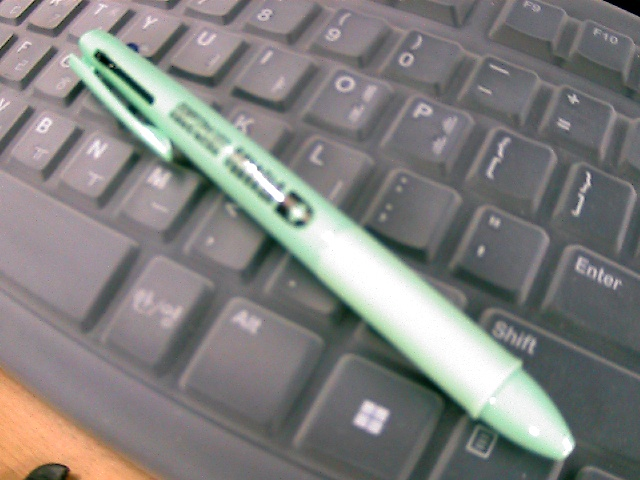pen: (49, 27, 586, 463)
